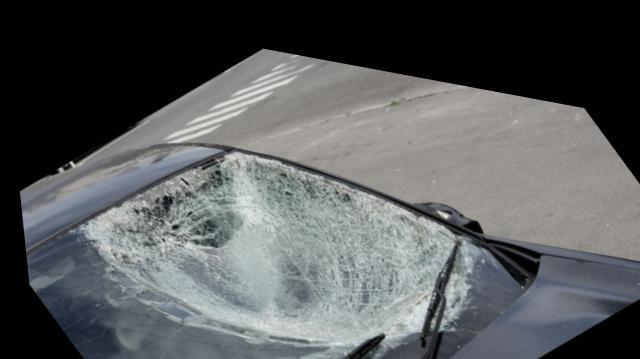glass shatter: (21, 139, 523, 359)
